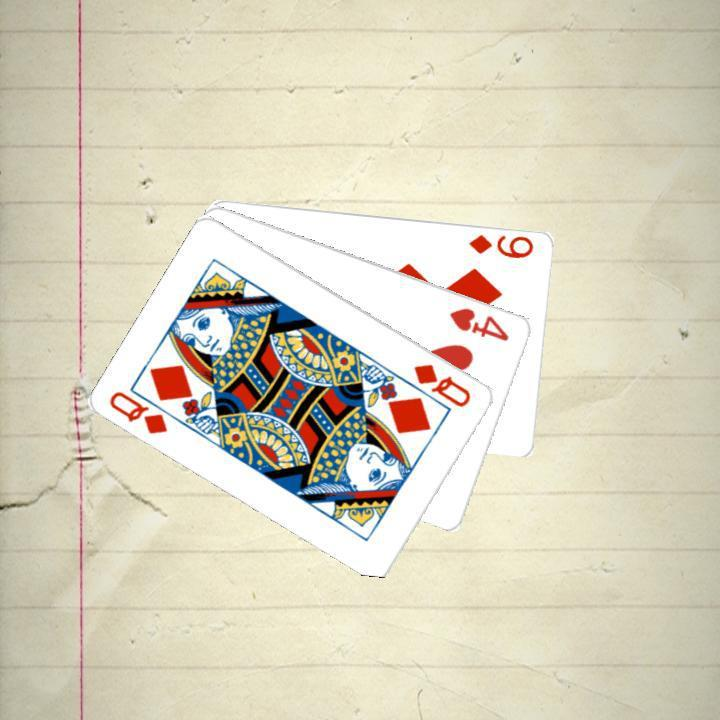4: (445, 303, 512, 343)
9: (465, 230, 536, 260)
Q: (105, 386, 170, 437), (409, 359, 474, 409)
